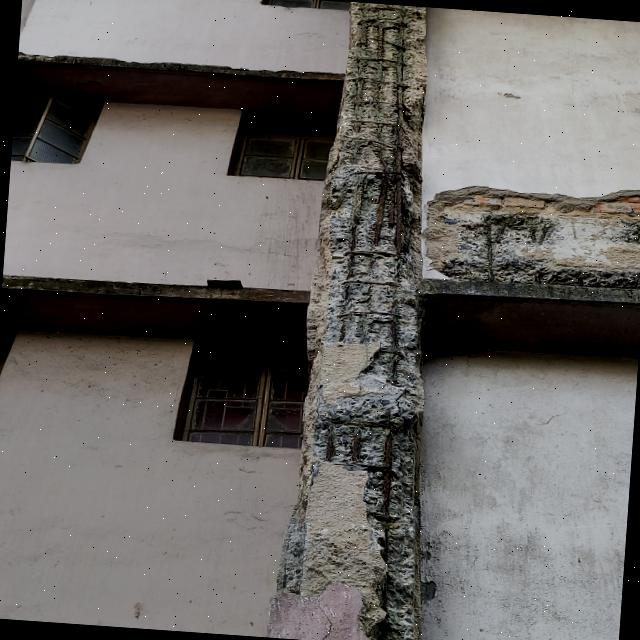spalling: (275, 1, 426, 640), (422, 186, 640, 290)
